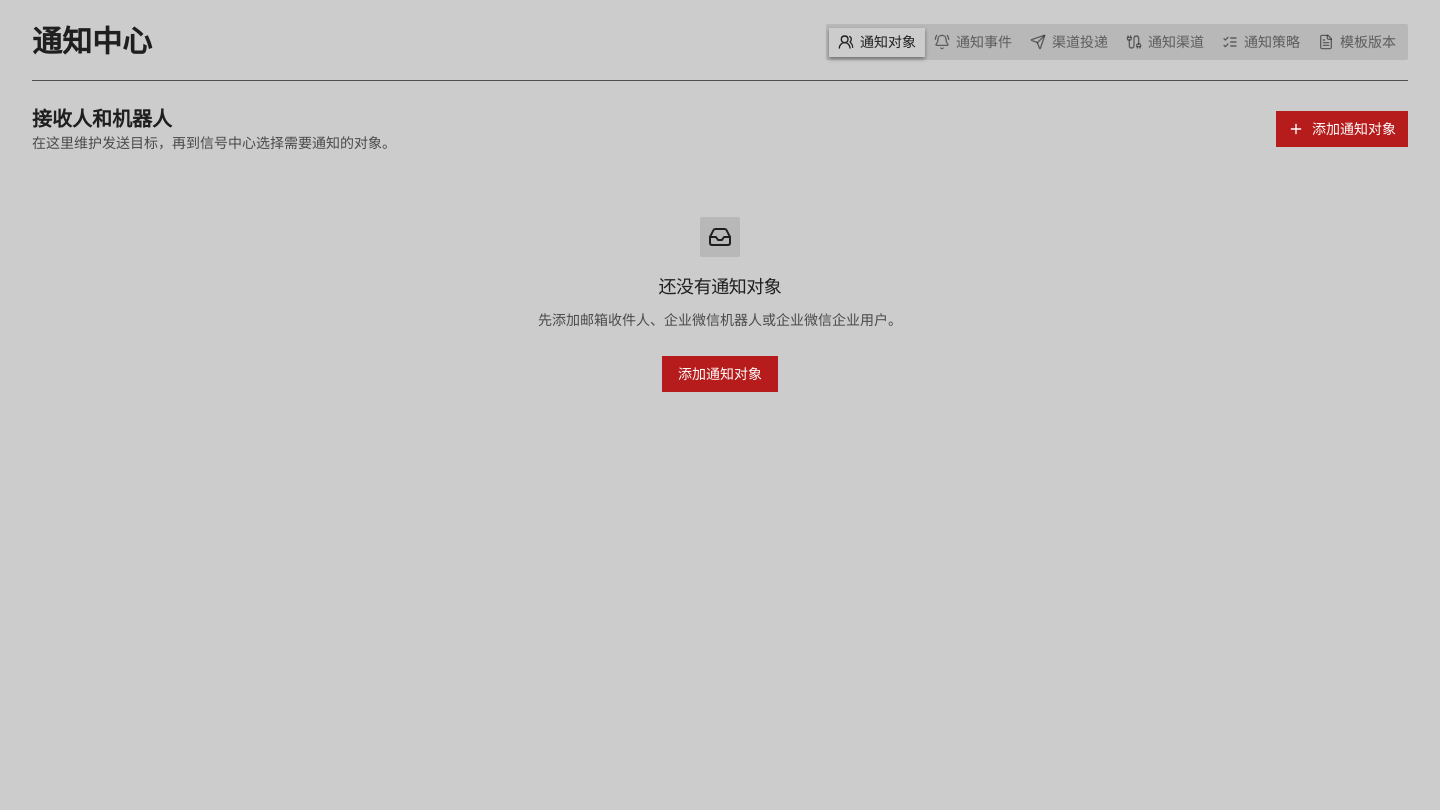
通知中心 › SENT 重发必须填写原因并确认重复风险
This screenshot has width=1440, height=810.
Step 1. Click the tab "渠道投递" → (1069, 42), box [1021,28,1117,56]
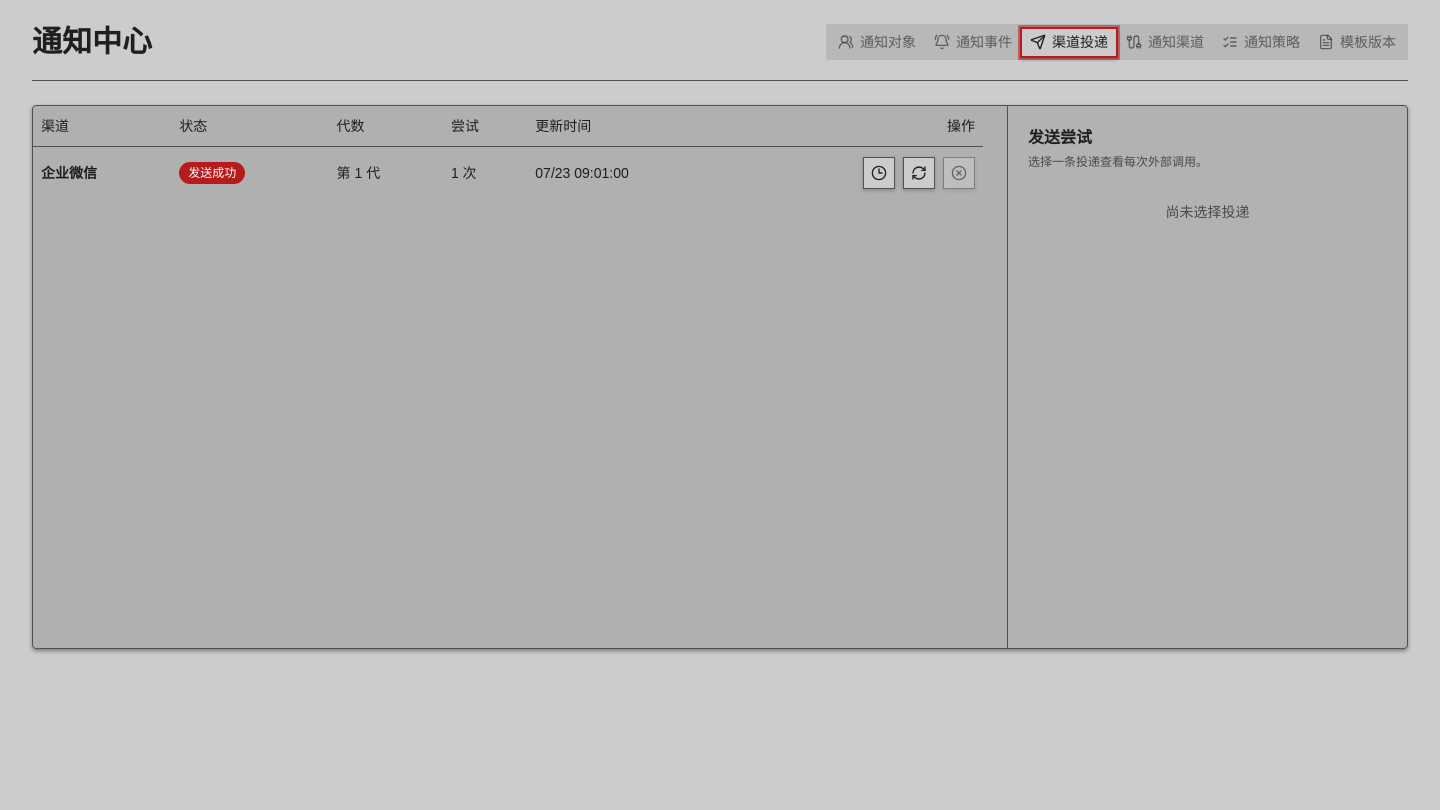
Step 2. Click the button named "重试 企业微信 投递" → (919, 172), box [903,156,935,188]
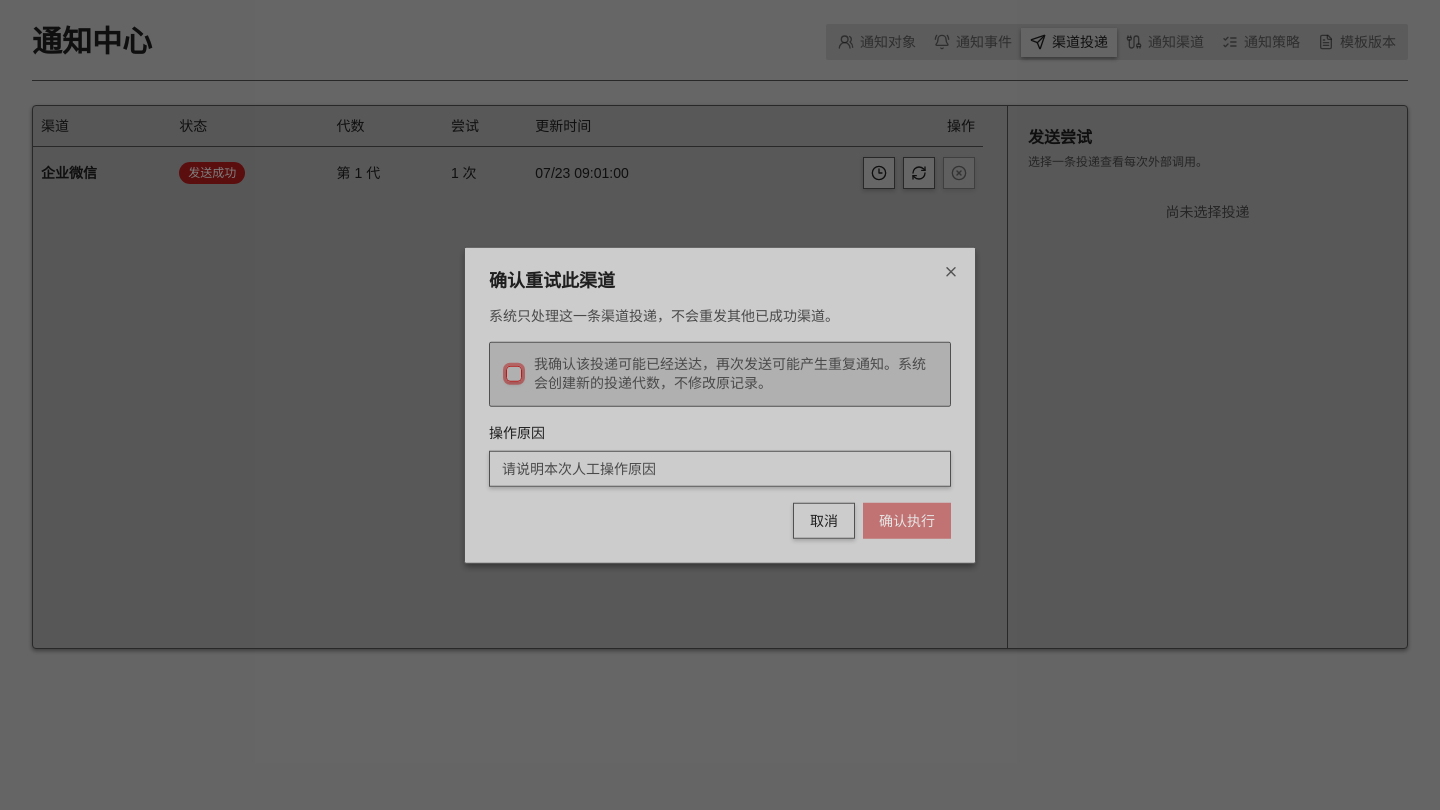
Expected: the button "确认执行" is disabled, [863,502,951,538]
Step 3. Type "人工核对后重发" into the field labelled "操作原因" → (720, 468), box [489,450,951,486]
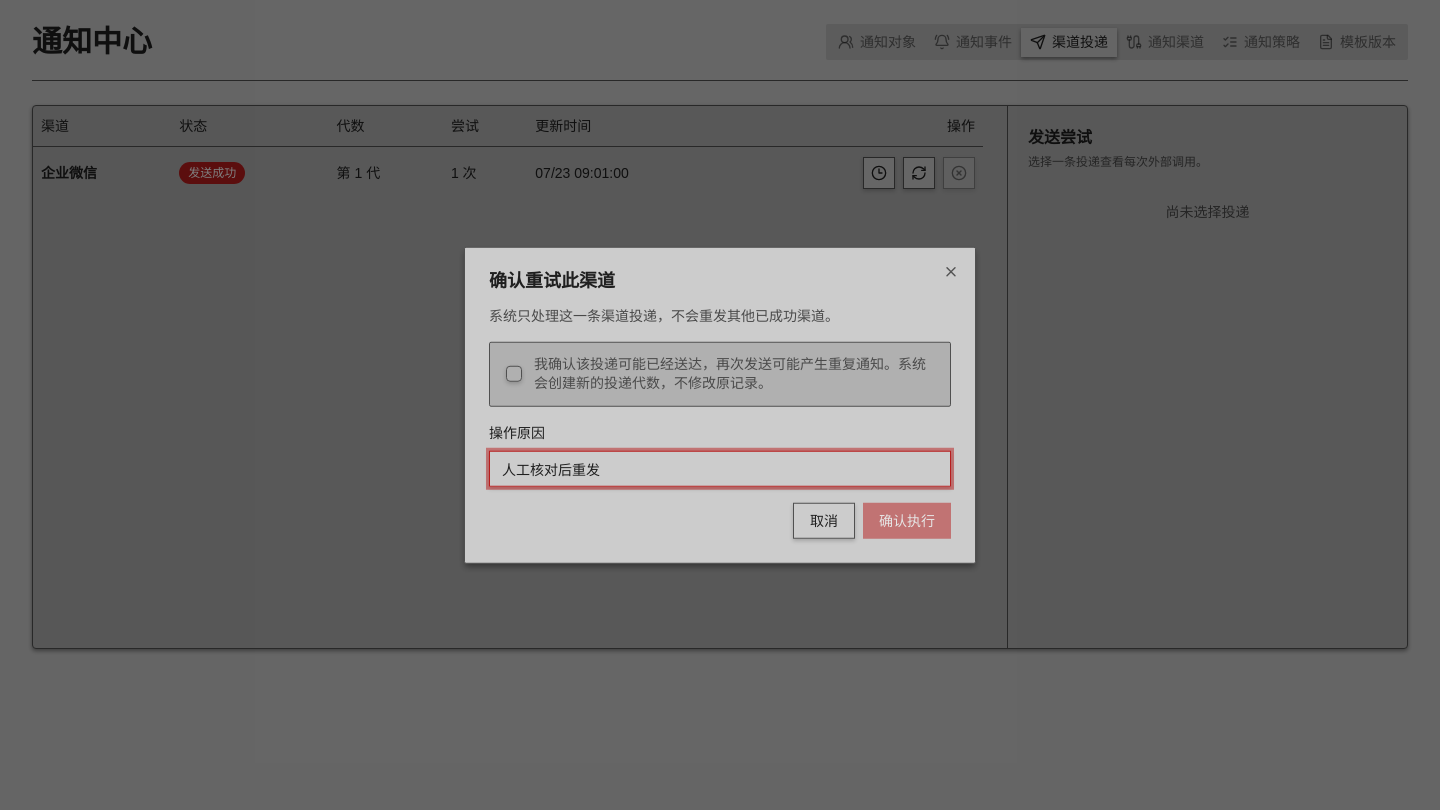
Expected: the button "确认执行" is disabled, [863,502,951,538]
Step 4. Click the checkbox → (514, 374), box [506,366,522,382]
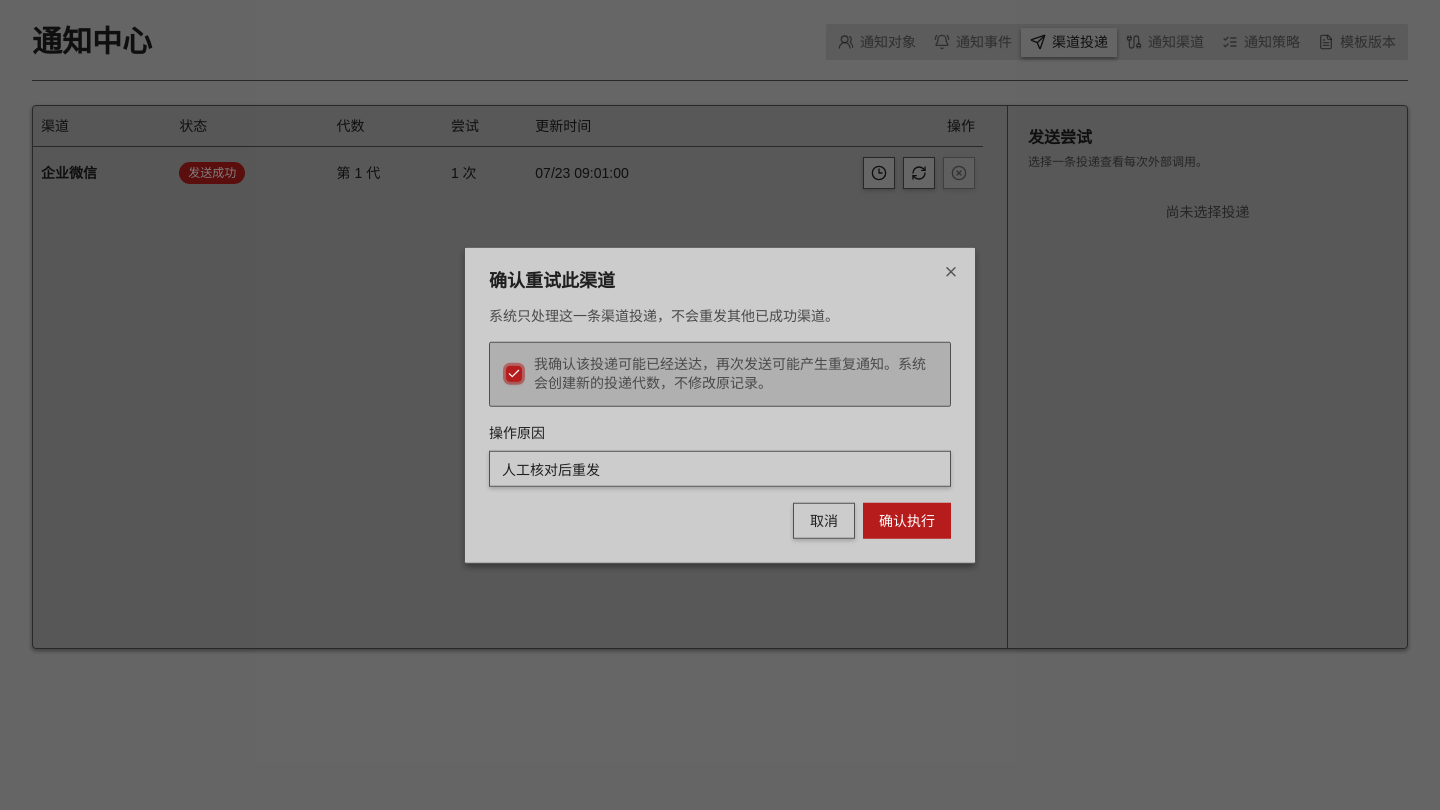
Step 5. Click the button "确认执行" → (907, 520), box [863,502,951,538]
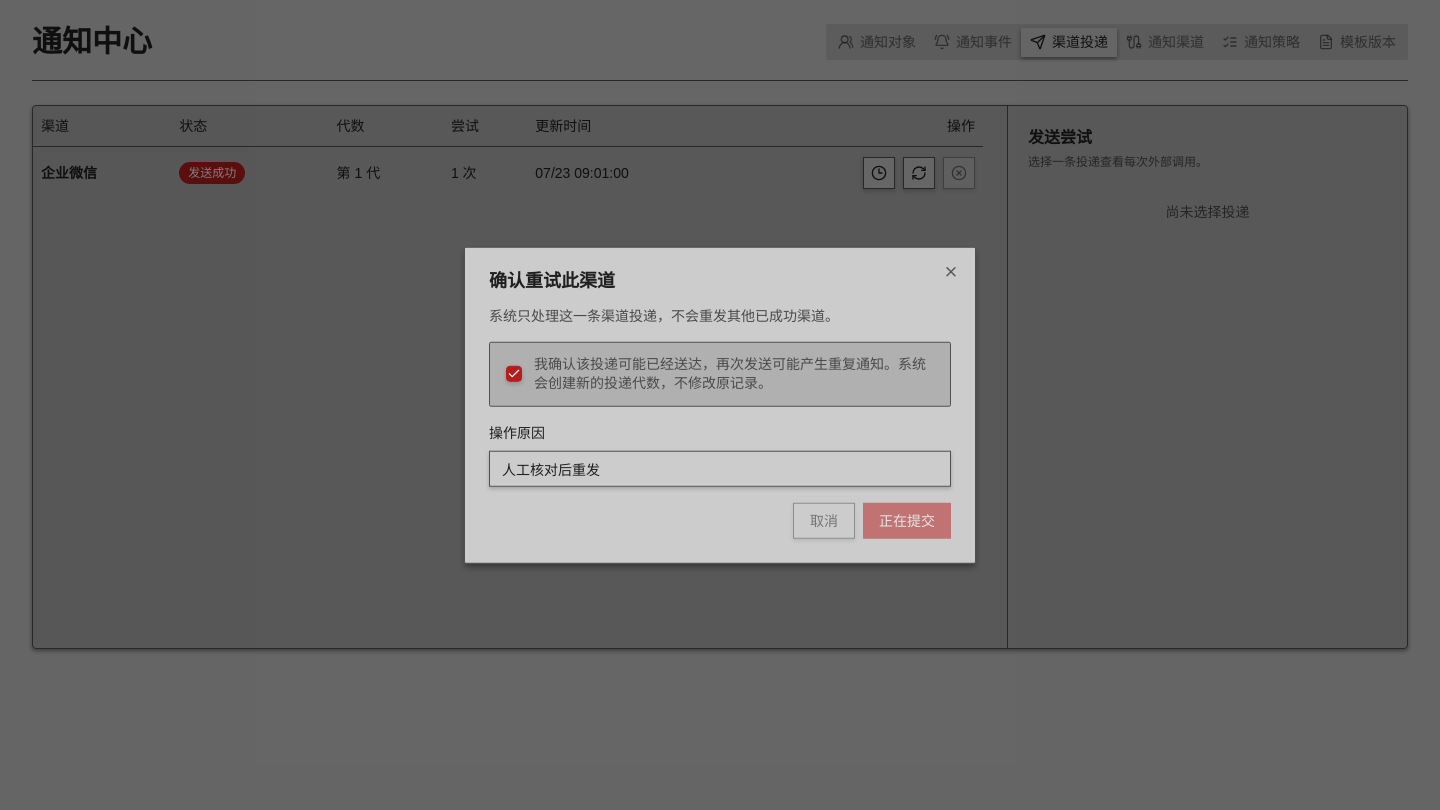
Expected: the button named "确认执行" is disabled, [863,502,951,538]
